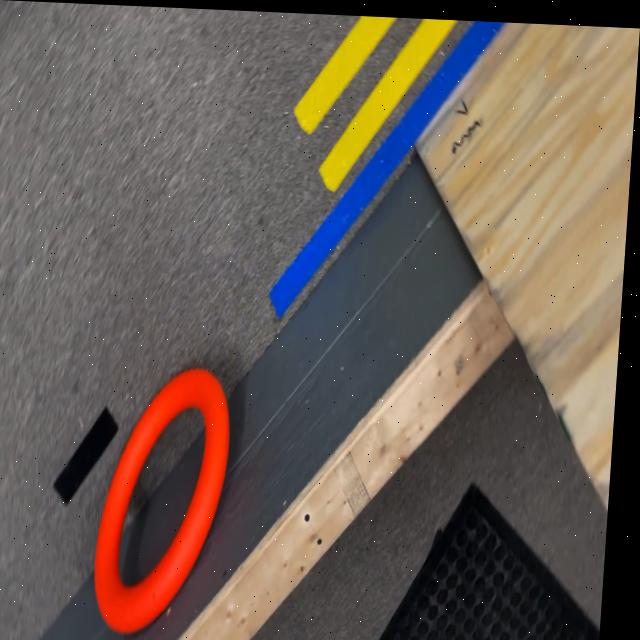note: (98, 362, 241, 635)
